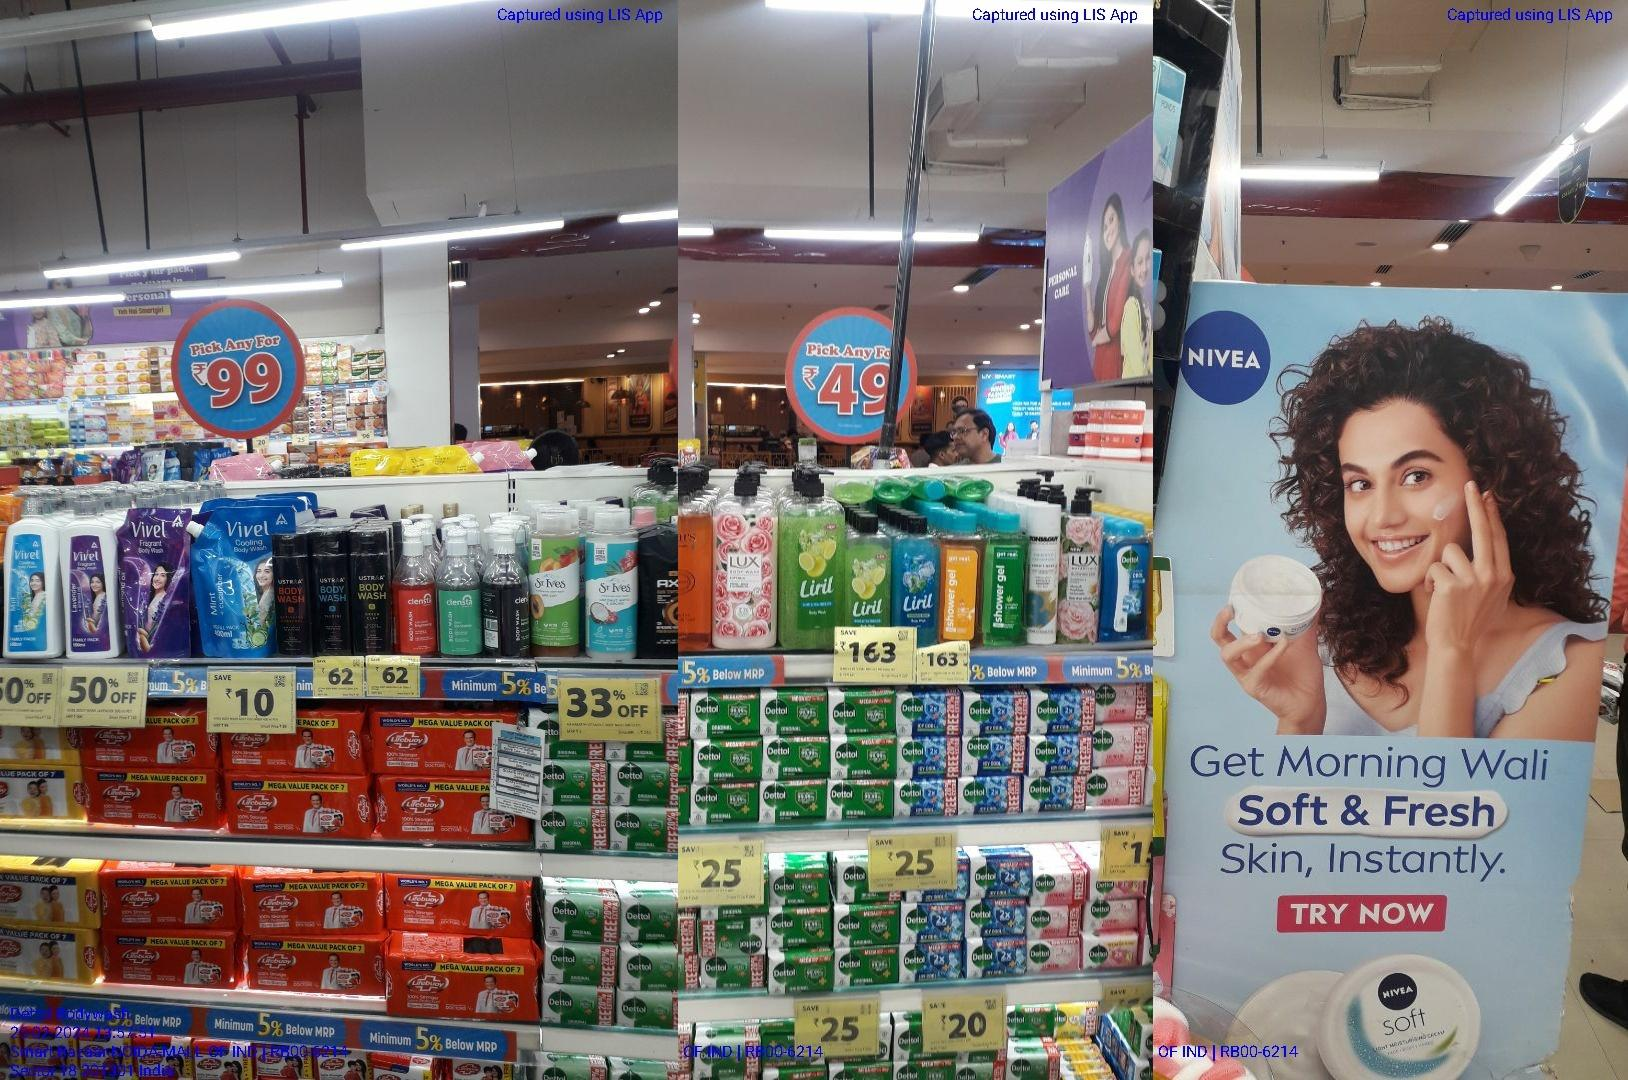Dettol_Bodywash_Cool: (1112, 523, 1154, 638)
Liril_Lime_and_Tea_Tree_Oil_Body_Wash_250ML: (848, 516, 891, 629)
Pears_Pure_Glycerin_and_Mint_Extracts_Body_Wash_250ML: (894, 518, 941, 646)
